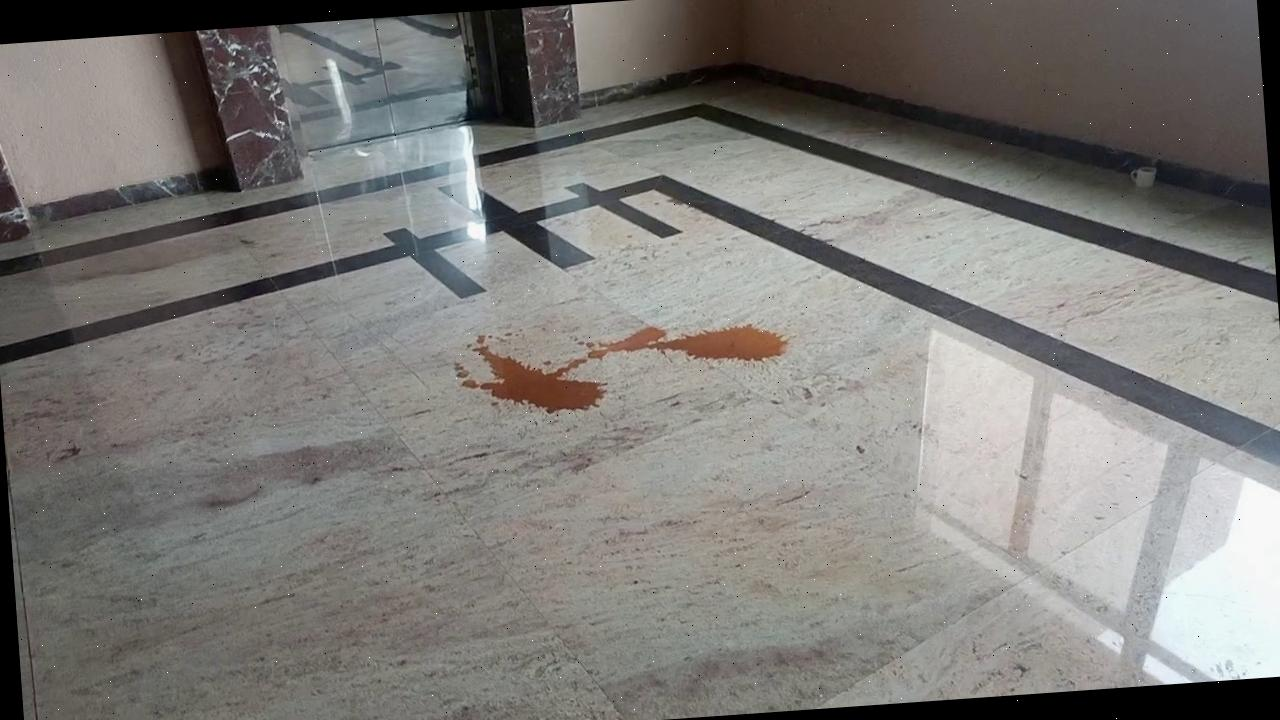dirty_floor: (457, 302, 791, 422)
